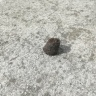Dog: (44, 38, 59, 54)
